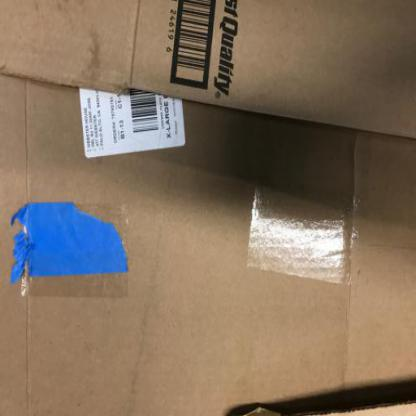CARDBOARD: (0, 0, 415, 415), (0, 0, 415, 139)
